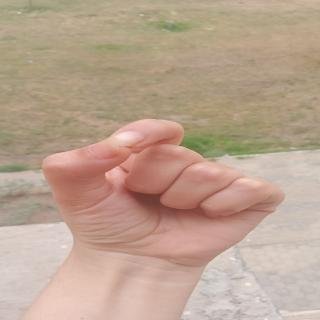FAA: (48, 109, 282, 248)
